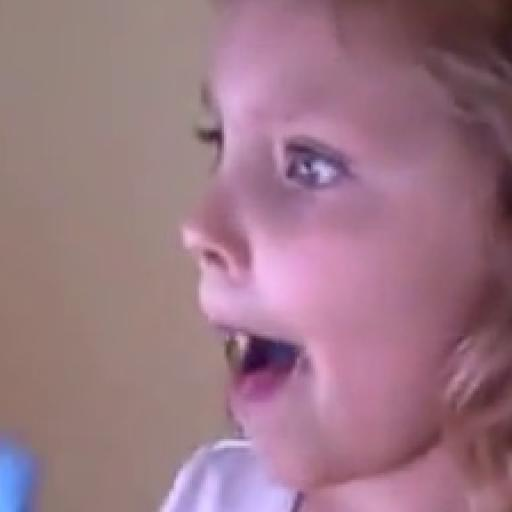Autism: (77, 2, 512, 499)
